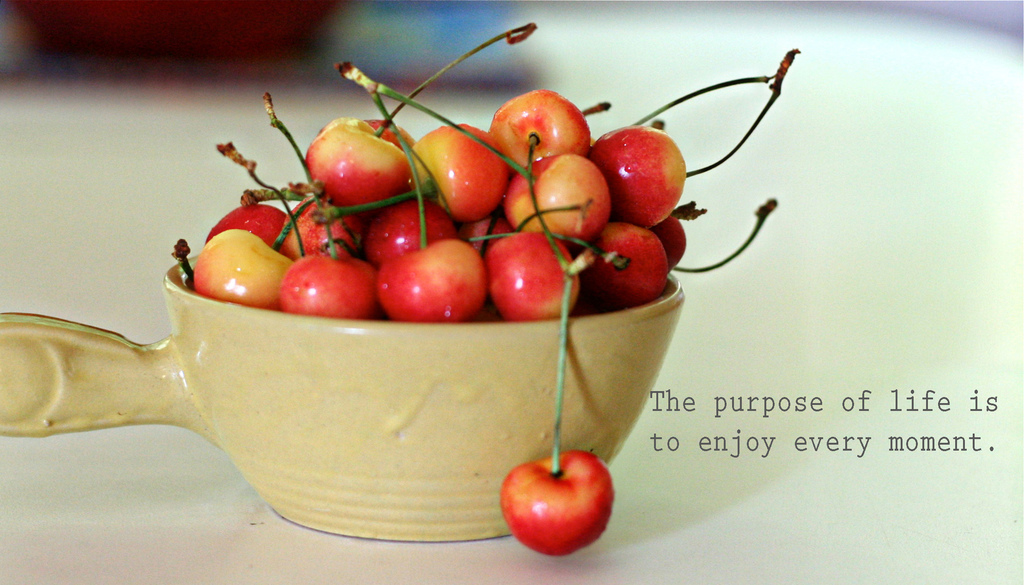Tomato: (172, 20, 798, 323), (497, 277, 612, 560), (477, 230, 557, 319)
